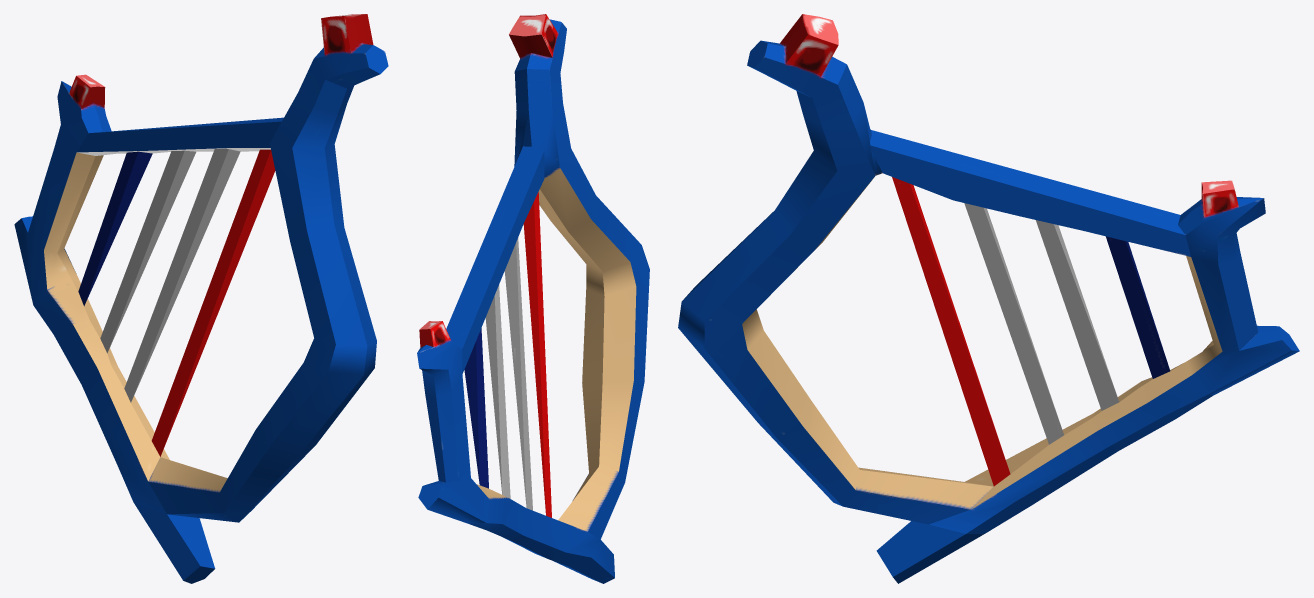
File: Arpa2_000004.obj
3 renders of one model, left to right at view 1: azimuth 30°, elevation 25°; view 2: azimuth 150°, elevation 25°; view 3: azimuth 270°, elevation 25°, orthographic. The views are drawn at different scales.
Parts seen in each view (by area): view 1: a2_Arpa_1:pCube7; view 2: a2_Arpa_1:pCube7; view 3: a2_Arpa_1:pCube7.
Part boxes in pixels (box(x1,y1,x2,y2)): a2_Arpa_1:pCube7: box(14, 14, 388, 583); a2_Arpa_1:pCube7: box(417, 14, 649, 583); a2_Arpa_1:pCube7: box(678, 14, 1299, 583).
Size of the model in its own units: 2.32 by 8.12 by 7.36.
